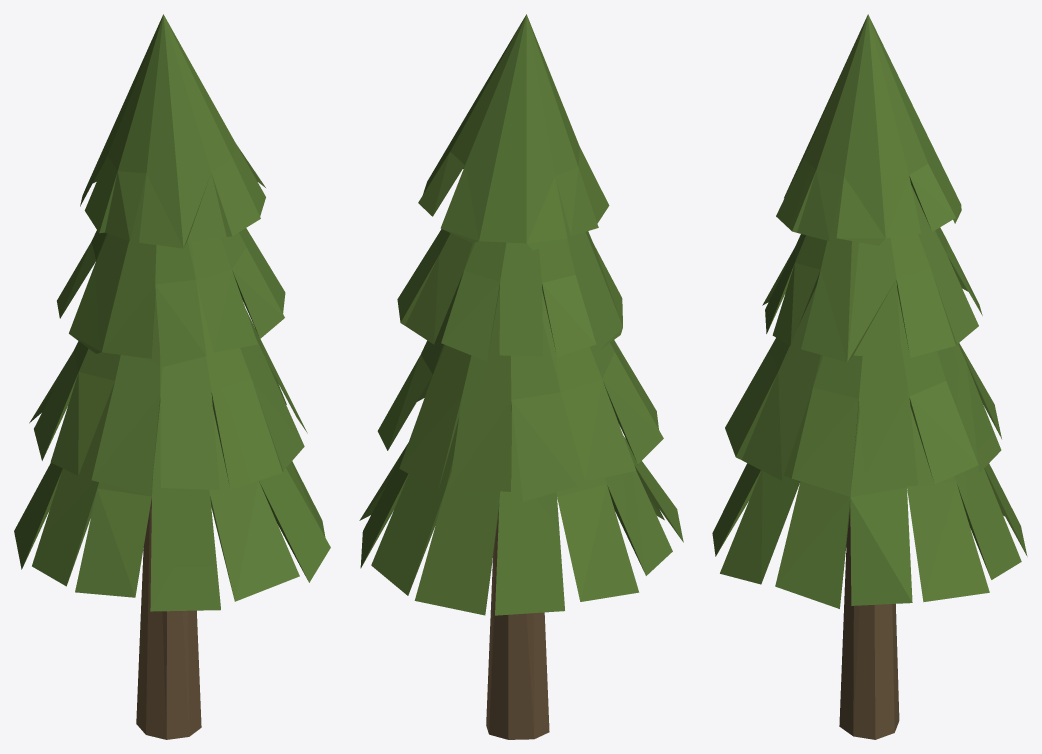
Rendered from Tree_20.fbx.
3 views of the same model, side by side, from view 1: azimuth 30°, elevation 25°; view 2: azimuth 150°, elevation 25°; view 3: azimuth 270°, elevation 25° (orthographic).
Visible parts, largest first — view 1: Tree_20; view 2: Tree_20; view 3: Tree_20.
Boxes of the visible parts, box(x1,y1,x2,y2) form: Tree_20: box(14, 14, 330, 739); Tree_20: box(359, 14, 683, 739); Tree_20: box(712, 14, 1027, 739).
Bounding box in the file's own units: 119 × 299 × 120.
